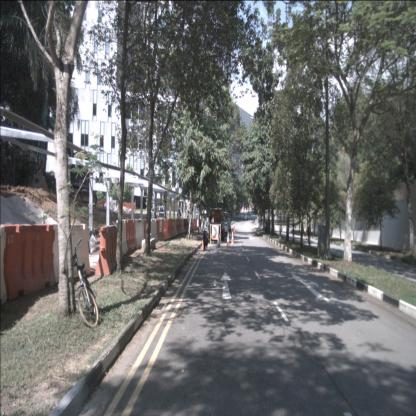barrier: (3, 222, 56, 302), (51, 222, 92, 284), (95, 224, 122, 280), (0, 224, 8, 306), (115, 220, 129, 258), (126, 220, 138, 252), (135, 218, 146, 249), (148, 218, 160, 244), (162, 218, 176, 240), (174, 220, 190, 236), (156, 218, 165, 242)
cone: (216, 235, 221, 249), (226, 231, 230, 246), (231, 230, 235, 244)
